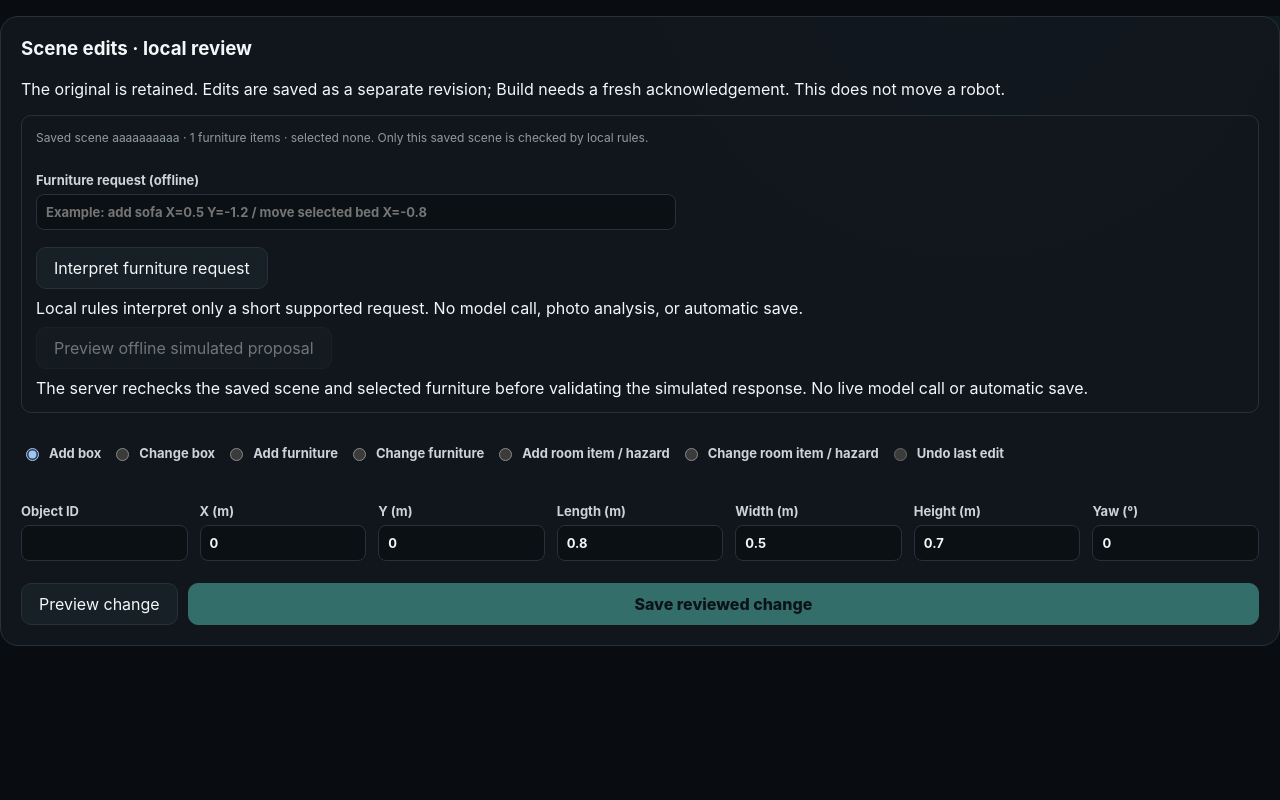
it: explains that selected parent and declared attachments share preview/apply/Undo
The image size is (1280, 800).
Click the radio button labelled "Change furniture": (359, 454) left=353, top=448, right=366, bottom=461
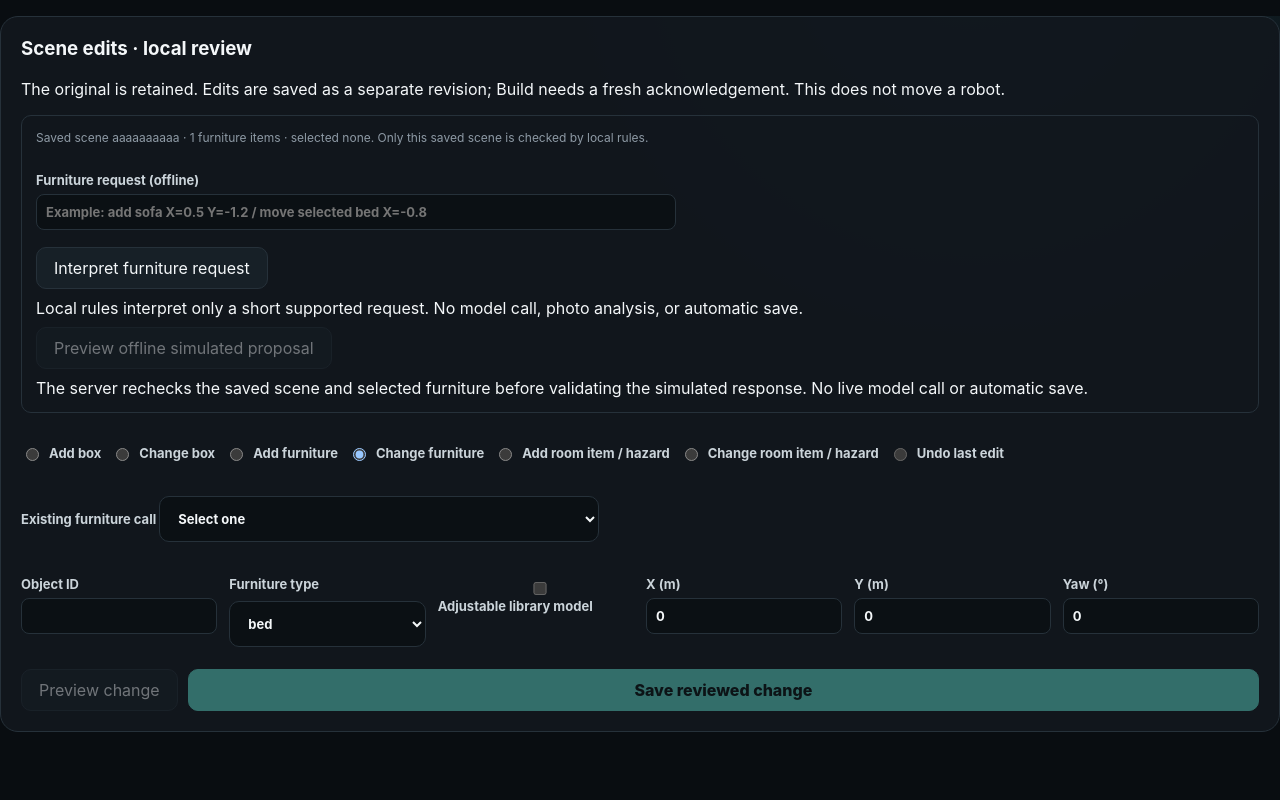
Select "bed · bed" in the dropdown labelled "Existing furniture call": (379, 519) left=159, top=496, right=599, bottom=542
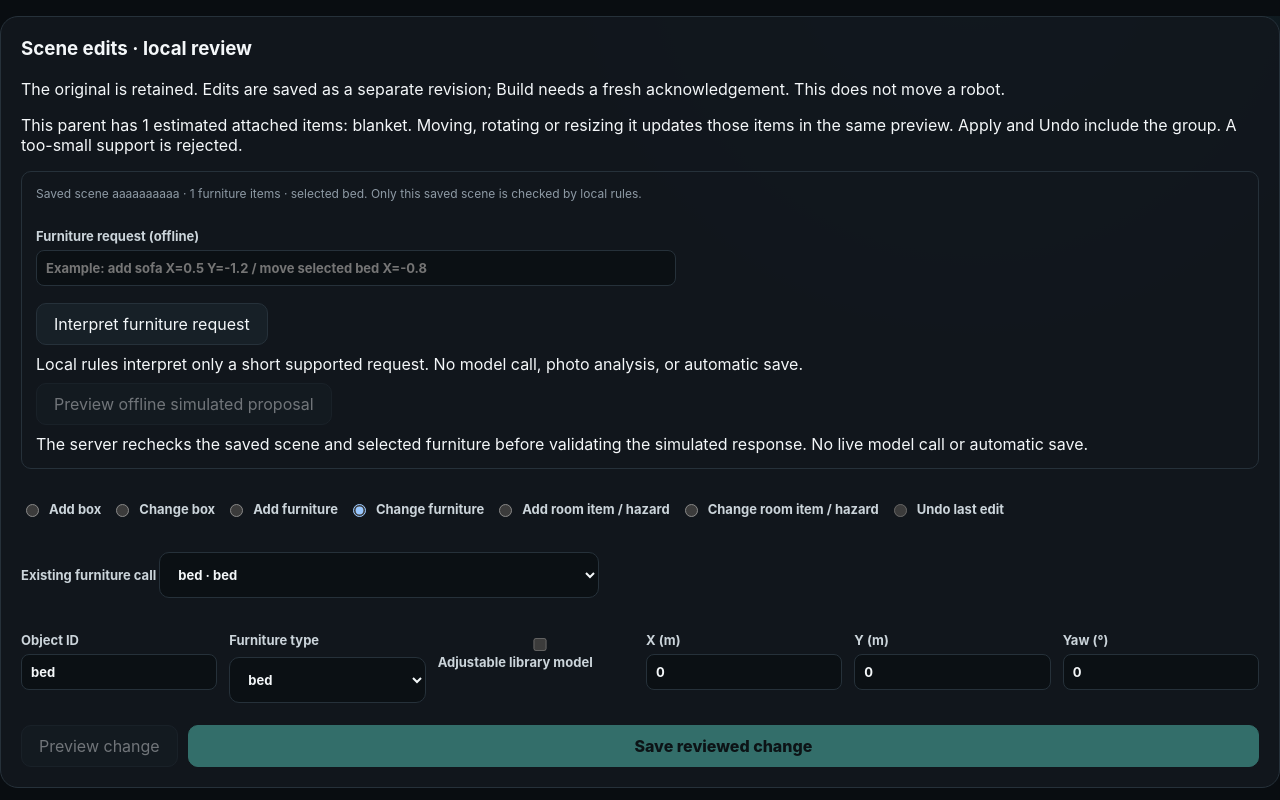
expect the text "blanket" is shown: met, box left=352, top=115, right=408, bottom=135
expect the text "same preview" is shown: met, box left=21, top=115, right=1237, bottom=155
expect the text "too-small support" is shown: met, box left=21, top=115, right=1237, bottom=155
